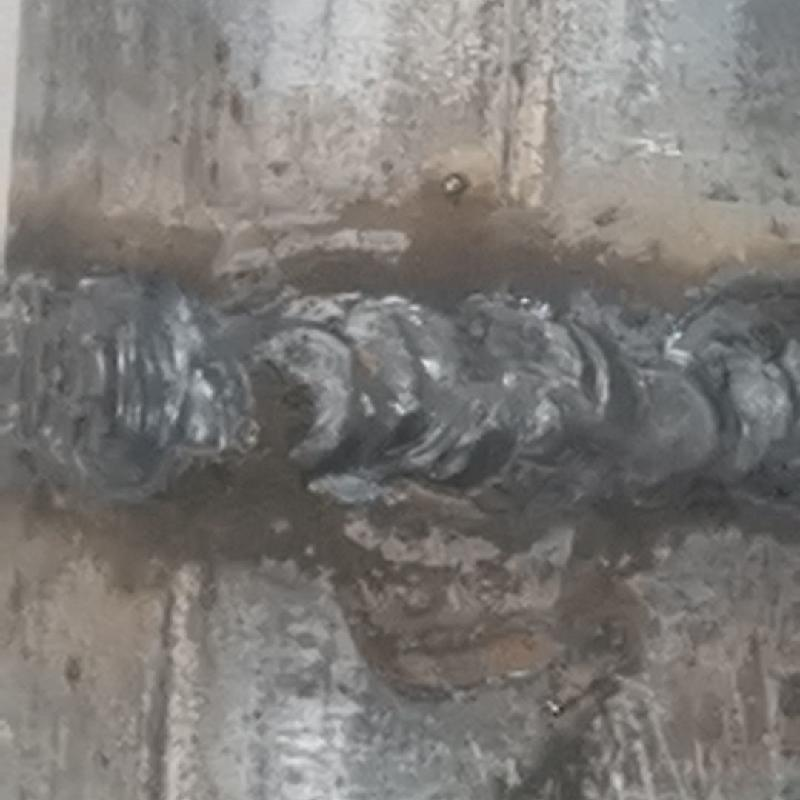good: (1, 250, 799, 512)
